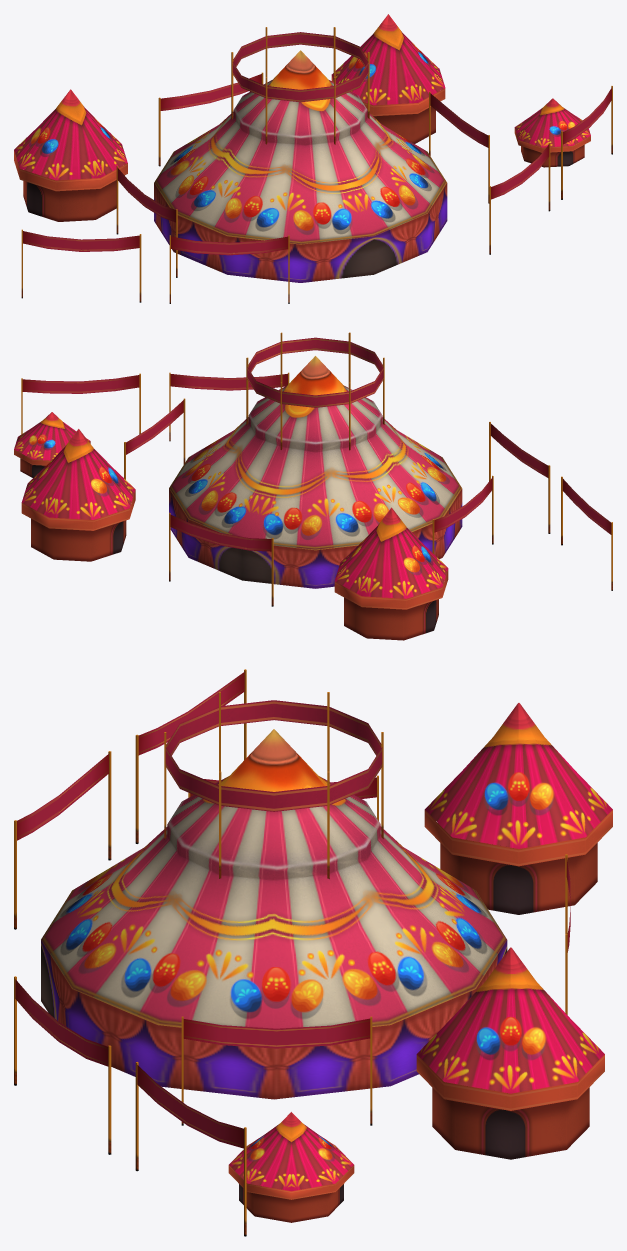
File: Circus.FBX
3 renders of one model, top to bottom at view 1: azimuth 30°, elevation 25°; view 2: azimuth 150°, elevation 25°; view 3: azimuth 270°, elevation 25°, orthographic. The views are drawn at different scales.
Visible parts, largest first — view 1: Circus; view 2: Circus; view 3: Circus.
Boxes of the visible parts, left/top/right/bottom form: Circus: left=14, top=14, right=612, bottom=303; Circus: left=14, top=332, right=612, bottom=640; Circus: left=14, top=669, right=612, bottom=1236.
Size of the model in its own units: 912 by 252 by 503.
